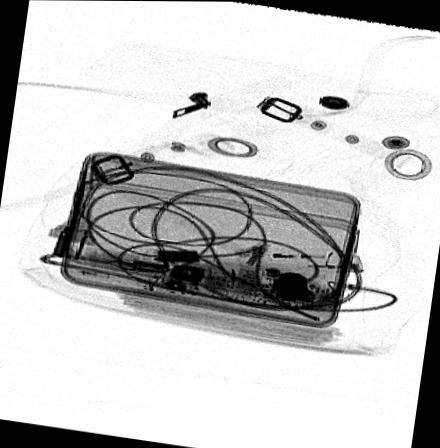Lighter: (237, 254, 364, 273)
